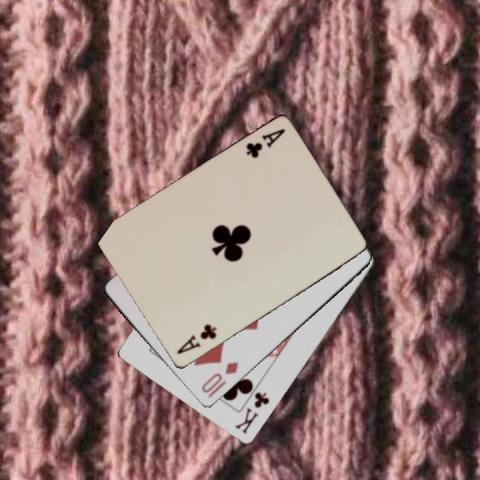10d: (198, 360, 240, 396)
Ac: (173, 321, 218, 356), (243, 126, 286, 160)
Kc: (232, 389, 271, 436)
